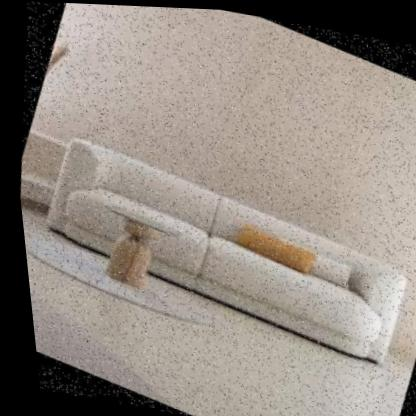Sofa: (8, 94, 416, 415)
